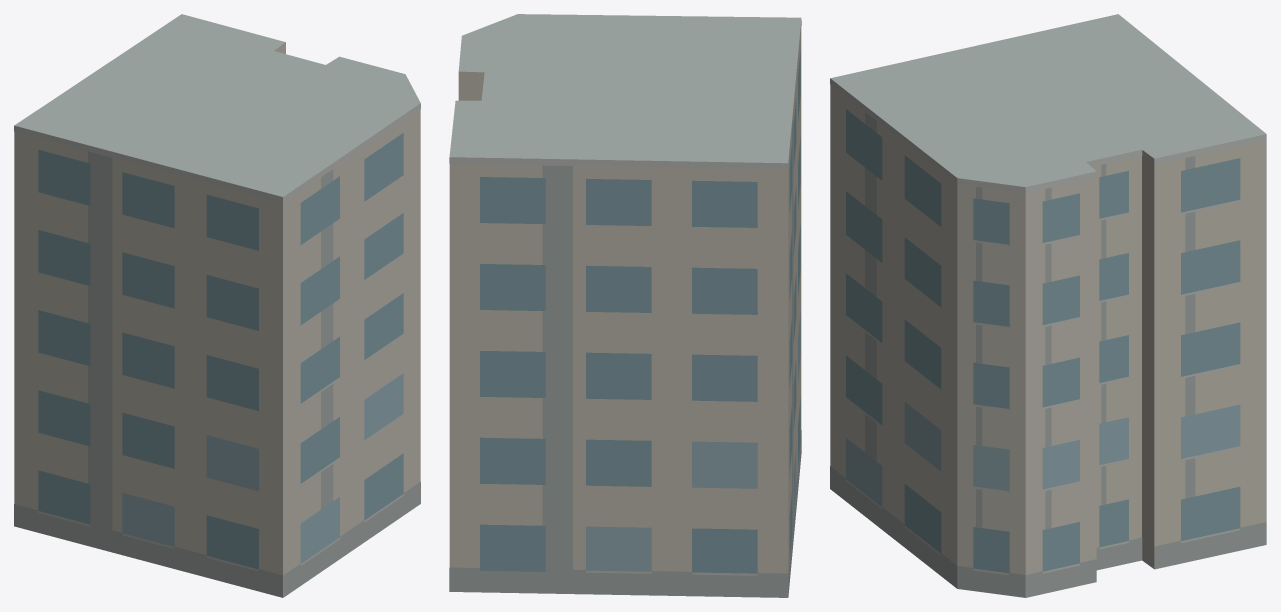
The model's file is survey-upis-32835788.glb.
The picture shows the model from 3 angles, left to right: view 1: azimuth 30°, elevation 25°; view 2: azimuth 150°, elevation 25°; view 3: azimuth 270°, elevation 25°; orthographic projection. The views are drawn at different scales.
Visible parts, largest first — view 1: survey-upis-32835788.tmp; view 2: survey-upis-32835788.tmp; view 3: survey-upis-32835788.tmp.
Part boxes in pixels (box(x1,y1,x2,y2)): survey-upis-32835788.tmp: box(14, 14, 420, 597); survey-upis-32835788.tmp: box(449, 14, 801, 597); survey-upis-32835788.tmp: box(830, 14, 1266, 597).
Size of the model in its own units: 14.52 by 16.05 by 15.47.
